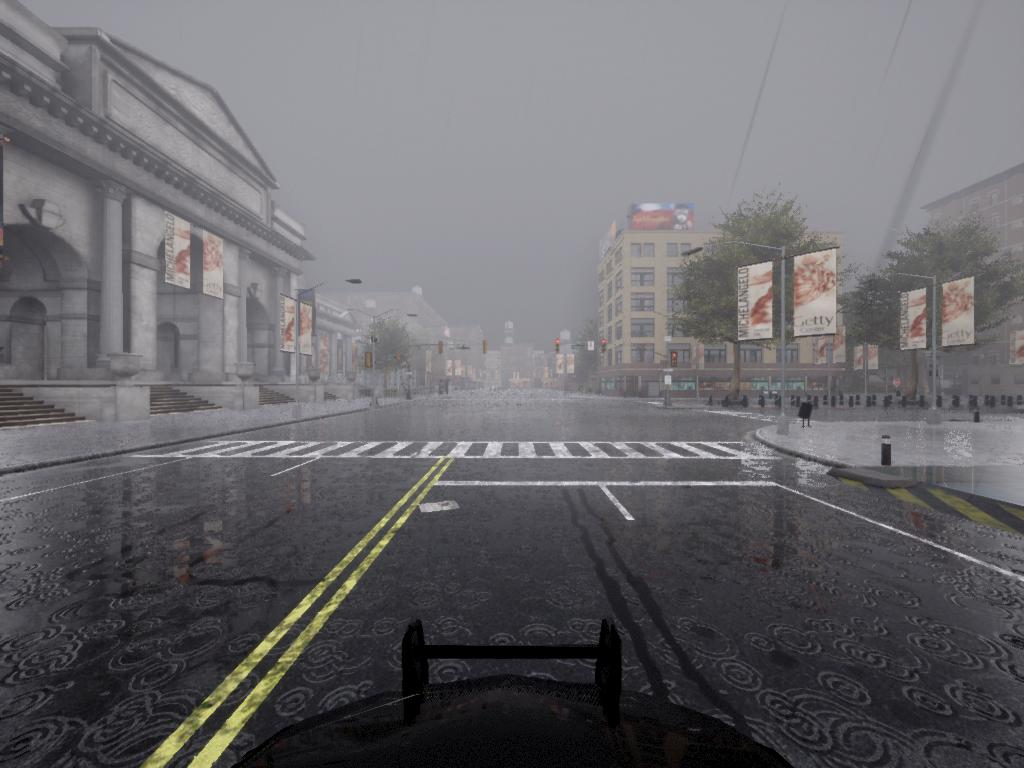traffic_light: (671, 351, 679, 370), (365, 353, 372, 369), (555, 339, 562, 354), (602, 339, 608, 356), (396, 349, 403, 363), (483, 339, 489, 355), (438, 341, 444, 356)
